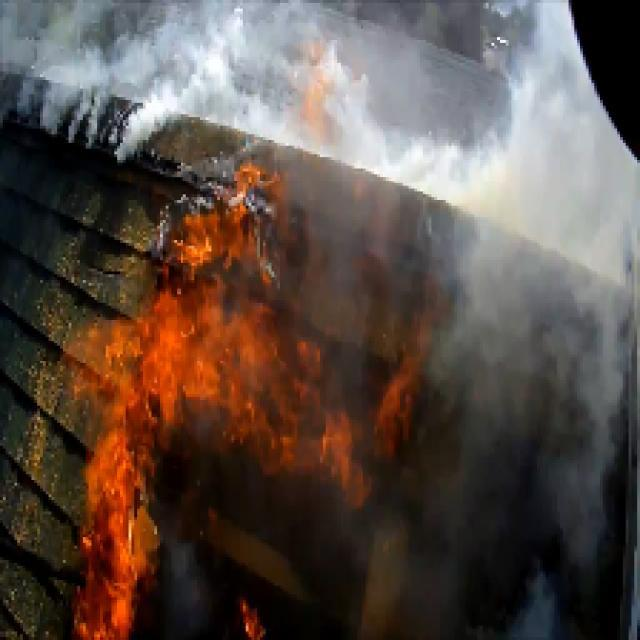Fire: (117, 312, 260, 457)
Smoke: (504, 145, 638, 524), (84, 15, 268, 134)
